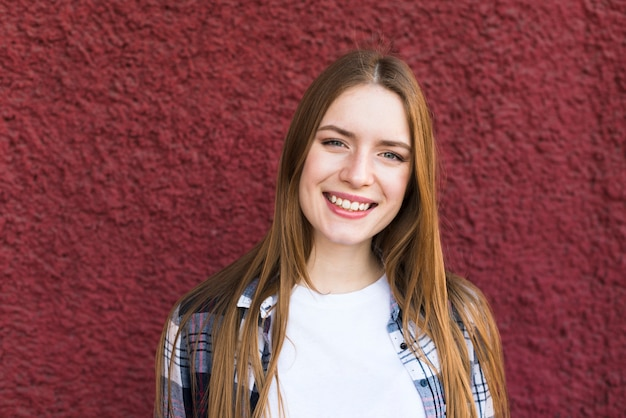teen: (289, 55, 440, 263)
